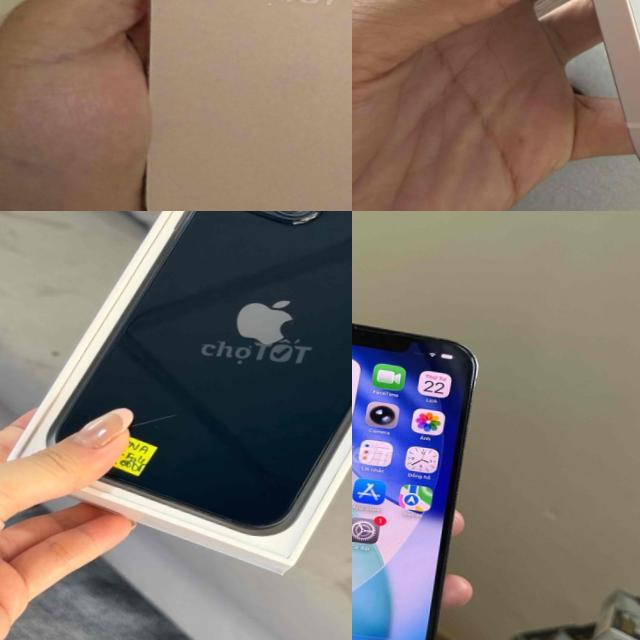gen_12_13: (39, 211, 352, 548), (352, 308, 489, 640)
gen_14: (444, 0, 640, 187)
gen_16: (97, 0, 352, 211)
scratch: (128, 409, 189, 440)
